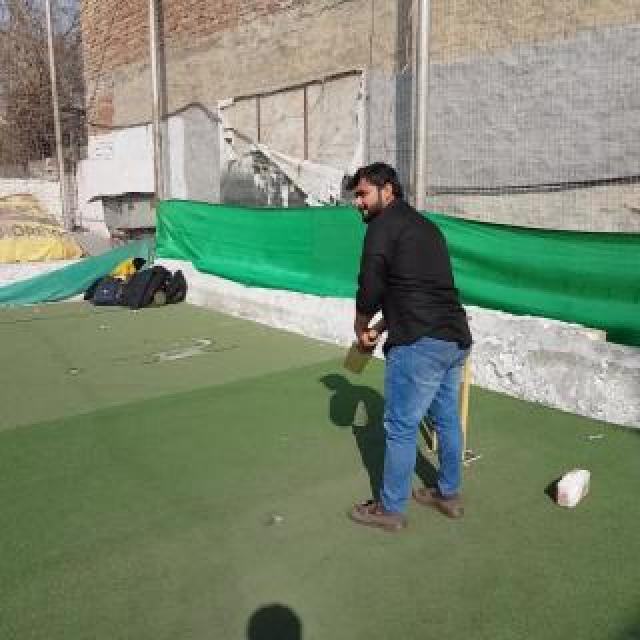bat: (342, 329, 380, 375)
